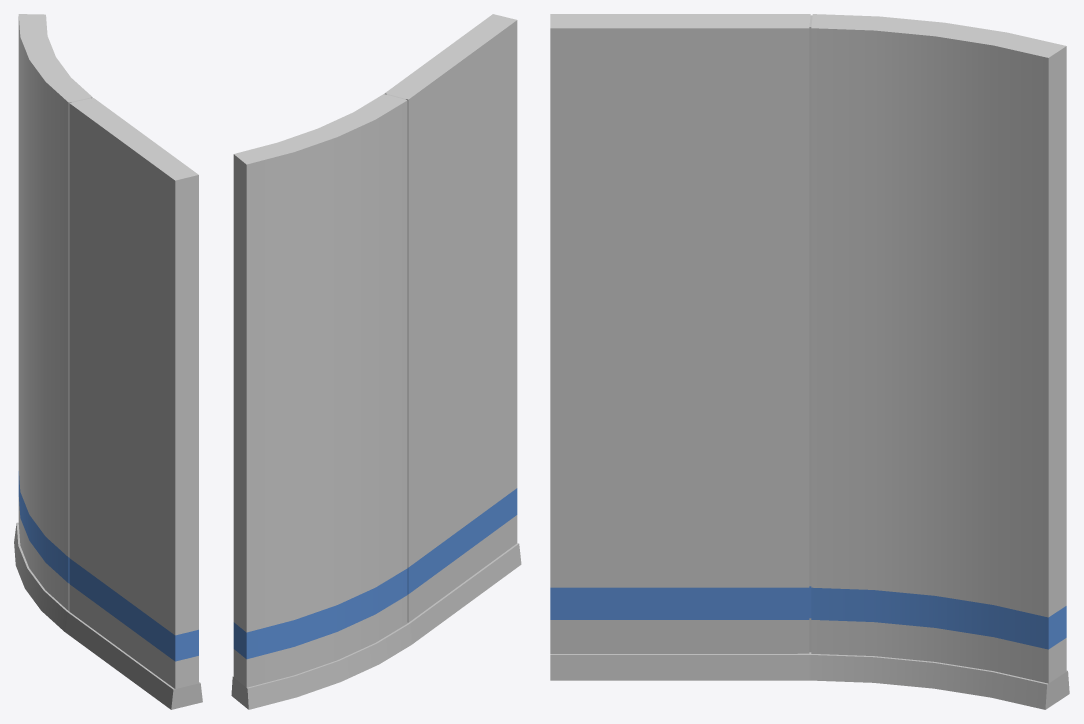
Rendered from LaboWallCurve2.fbx.
3 views of the same model, side by side, from view 1: azimuth 30°, elevation 25°; view 2: azimuth 150°, elevation 25°; view 3: azimuth 270°, elevation 25° (orthographic). The views are drawn at different scales.
Parts seen in each view (by area): view 1: Cube.003; view 2: Cube.003; view 3: Cube.003.
Part boxes in pixels (x1,y1,x2,y2): Cube.003: [14, 14, 202, 709]; Cube.003: [231, 14, 521, 709]; Cube.003: [550, 14, 1069, 709].
Size of the model in its own units: 176 by 1100 by 797.
